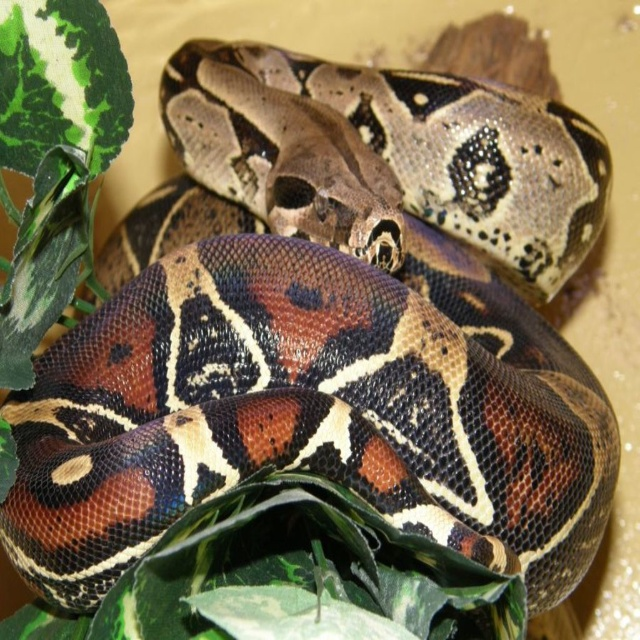Snake: (0, 37, 622, 621)
